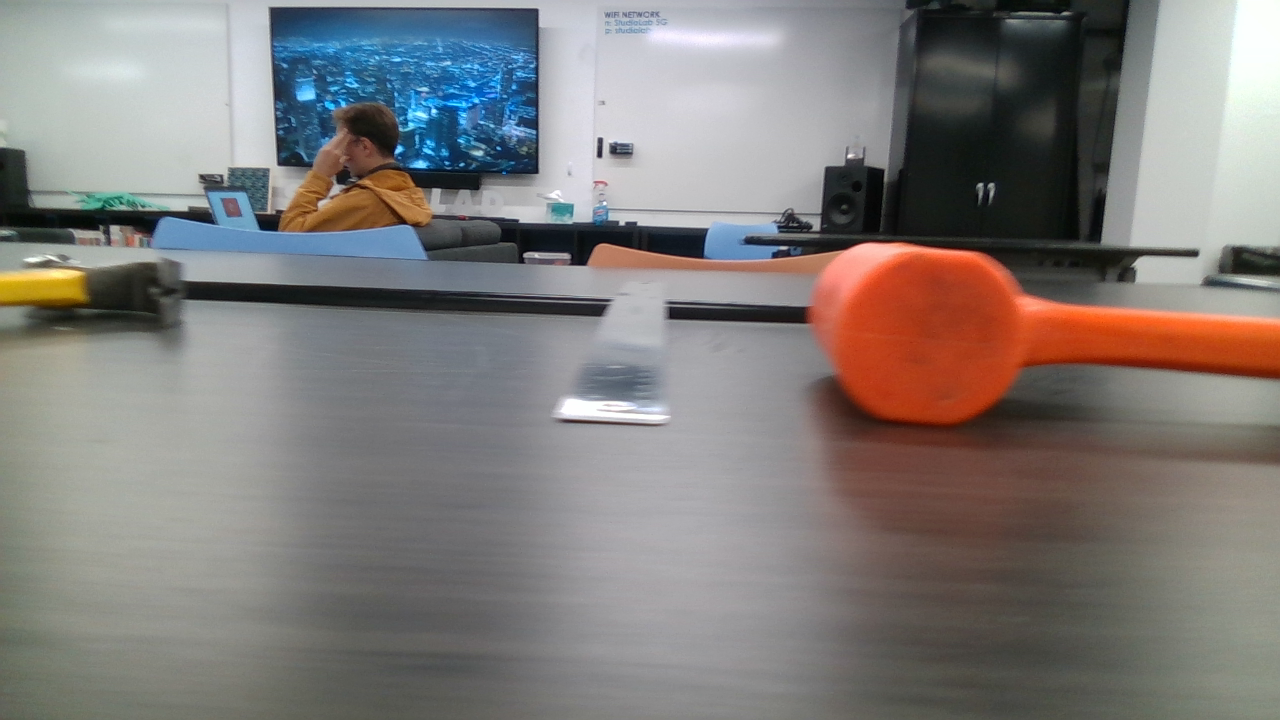Orange Hammer: (809, 243, 1275, 428)
